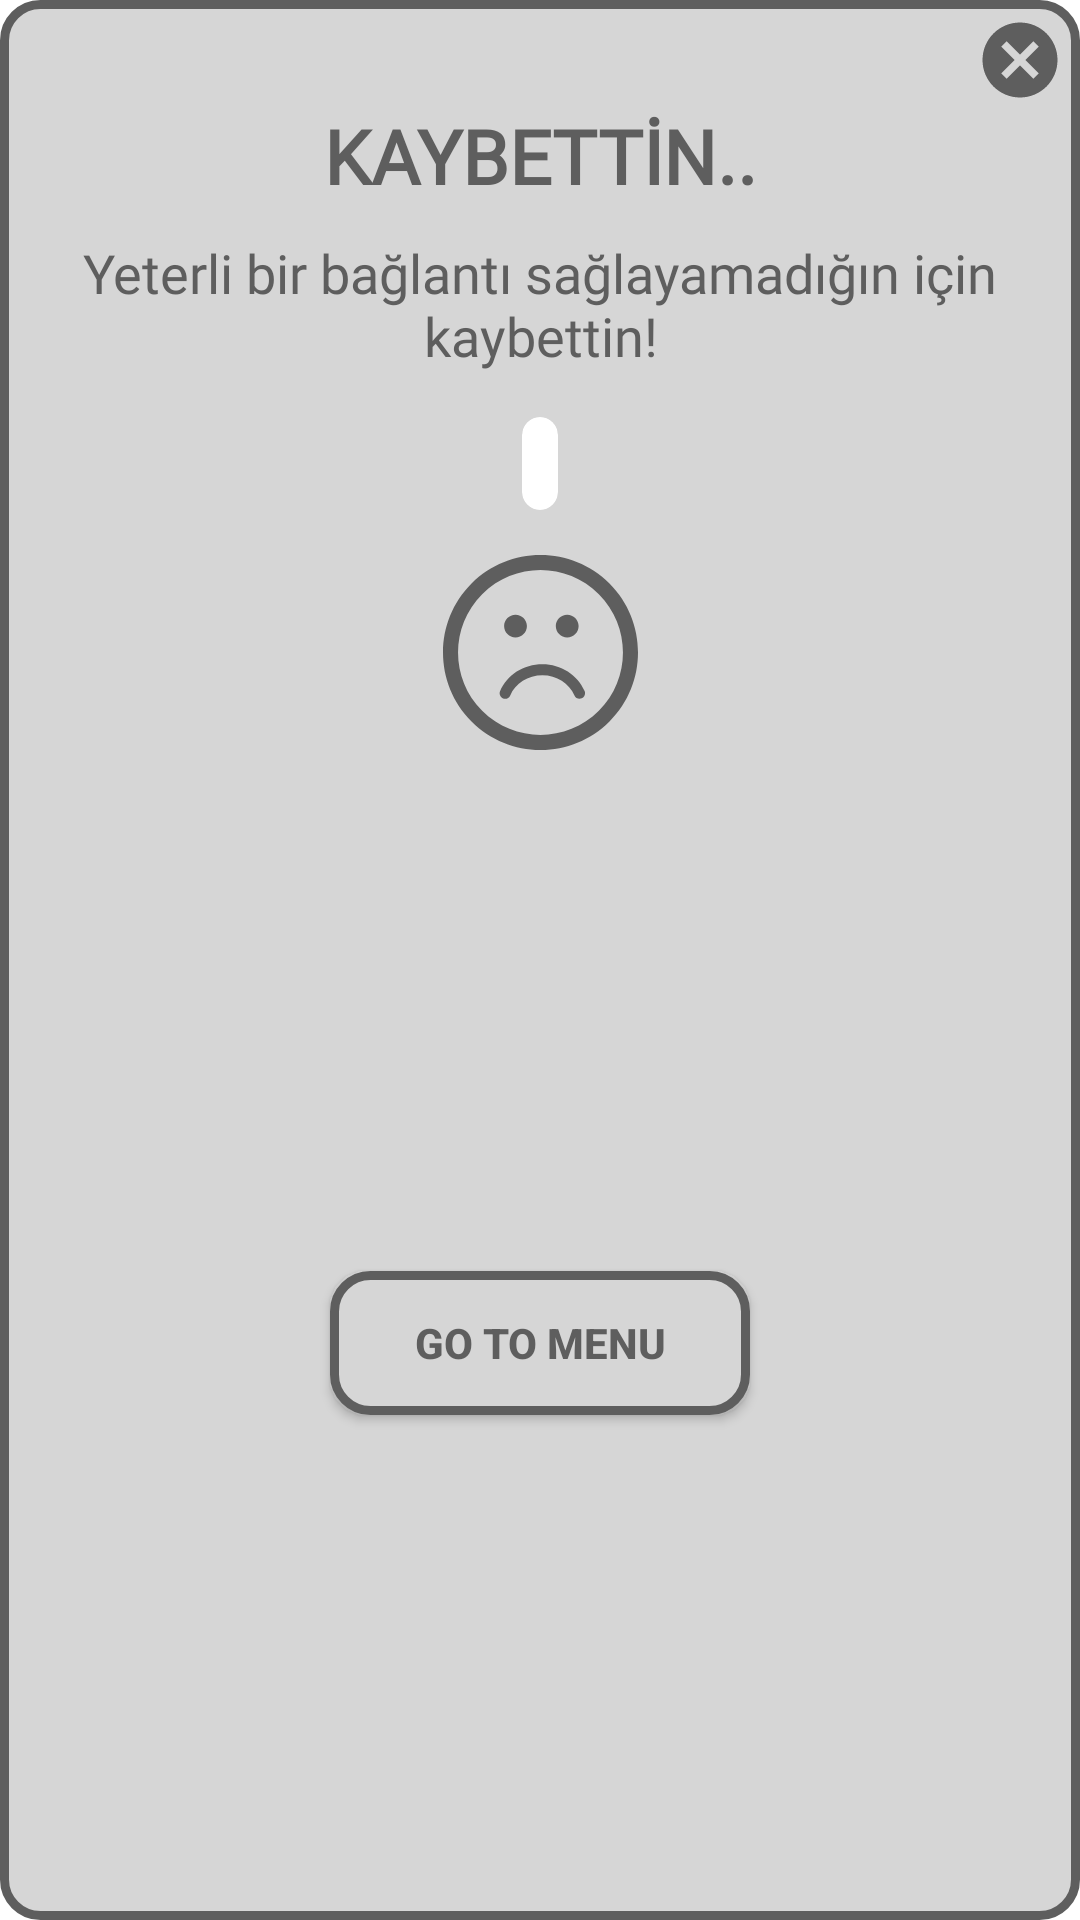

Icon bounding boxes for this 1080px x 1920px phone screenshot, format (x1, y1, x2, y2):
cancel kaybettin: (982, 22, 1058, 98)
sadface: (443, 555, 638, 750)
